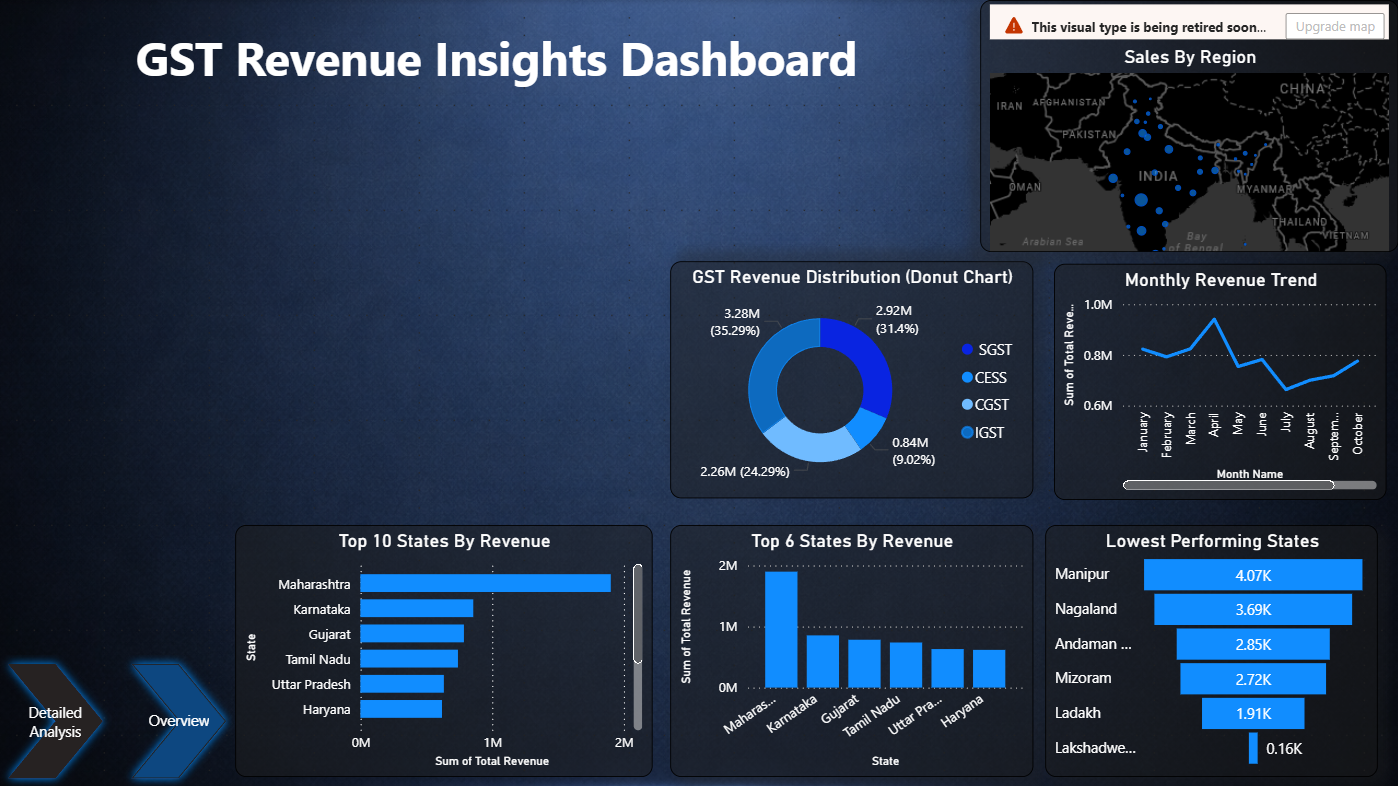

Layout of this report page (visuals, bound fields, positions):
{"tool":"powerbi","page":{"name":"Duplicate of Page 1","canvas":[1280,720],"ordinal":1},"visuals":[{"type":"cardVisual","title":"Total Sales","fields":{"Data":["tarungupta0927_17753816837849605.Total Sales"]},"box":[215.7,113.8,221.6,98.4],"z":0},{"type":"cardVisual","title":"Total Transactions","fields":{"Data":["tarungupta0927_17753816837849605.Total Transactions"]},"box":[454.9,114.3,202.3,96],"z":1000},{"type":"cardVisual","title":"Avg Revenue","fields":{"Data":["tarungupta0927_17753816837849605.Avg Revenue"]},"box":[672,114.3,213.7,96],"z":2000},{"type":"slicer","fields":{"Values":["tarungupta0927_17753816837849605.Year"]},"box":[18.3,115.4,173.7,364.6],"z":3000},{"type":"pieChart","title":"Sales by State","fields":{"Category":["tarungupta0927_17753816837849605.State"],"Y":["Sum(tarungupta0927_17753816837849605.Total Revenue)"]},"box":[215.7,240.6,381.5,215.7],"z":4000},{"type":"donutChart","title":"GST Revenue Distribution (Donut Chart)","fields":{"Y":["Sum(tarungupta0927_17753816837849605.SGST Revenue)","Sum(tarungupta0927_17753816837849605.Cess Revenue)","Sum(tarungupta0927_17753816837849605.CGST Revenue)","Sum(tarungupta0927_17753816837849605.IGST Revenue)"]},"box":[613.4,239.4,331.6,216.9],"z":5000},{"type":"map","title":"Sales By Region","fields":{"Category":["tarungupta0927_17753816837849605.State"],"Size":["Sum(tarungupta0927_17753816837849605.Total Revenue)"]},"box":[897.7,0,382.8,230.6],"z":6000},{"type":"clusteredBarChart","title":"Top 10 States By Revenue","fields":{"Category":["tarungupta0927_17753816837849605.State"],"Y":["Sum(tarungupta0927_17753816837849605.Total Revenue)"]},"box":[215.7,480,381.5,230.6],"z":7000},{"type":"clusteredColumnChart","title":"Top 6 States By Revenue","fields":{"Category":["tarungupta0927_17753816837849605.State"],"Y":["Sum(tarungupta0927_17753816837849605.Total Revenue)"]},"box":[613.4,480,331.6,230.6],"z":8000},{"type":"funnel","title":"Lowest Performing States","fields":{"Category":["tarungupta0927_17753816837849605.State"],"Y":["Sum(tarungupta0927_17753816837849605.Total Revenue)"]},"box":[956.3,480,304.2,230.6],"z":9000},{"type":"textbox","box":[51.5,18.1,807,66.8],"z":10000},{"type":"image","box":[224,146.3,38.9,53.7],"z":11000},{"type":"image","box":[681.1,146.3,44.6,51.4],"z":12000},{"type":"image","box":[454.9,154.3,57.1,45.7],"z":13000},{"type":"image","box":[788.6,26.3,86.9,50.3],"z":14000},{"type":"lineChart","title":"Monthly Revenue Trend","fields":{"Category":["tarungupta0927_17753816837849605.Month Name"],"Y":["Sum(tarungupta0927_17753816837849605.Total Revenue)"]},"box":[965,240.6,304.2,215.7],"z":14001},{"type":"bookmarkNavigator","box":[0,598.9,556.6,121.1],"z":14002},{"type":"actionButton","box":[18.3,489.1,100.6,40],"z":14003}]}

Visuals, with their boxes in screenshot pixels (x1, y1, x2, y2), scaled from the page's 1280x720 canvas onto the 1398x786 screenshot:
"Total Sales" cardVisual: (236,124,478,232)
"Total Transactions" cardVisual: (497,125,718,230)
"Avg Revenue" cardVisual: (734,125,967,230)
slicer - tarungupta0927_17753816837849605.Year: (20,126,210,524)
"Sales by State" pieChart: (236,263,652,498)
"GST Revenue Distribution (Donut Chart)" donutChart: (670,261,1032,498)
"Sales By Region" map: (980,0,1397,252)
"Top 10 States By Revenue" clusteredBarChart: (236,524,652,776)
"Top 6 States By Revenue" clusteredColumnChart: (670,524,1032,776)
"Lowest Performing States" funnel: (1044,524,1377,776)
textbox: (56,20,938,93)
image: (245,160,287,218)
image: (744,160,793,216)
image: (497,168,559,218)
image: (861,29,956,84)
"Monthly Revenue Trend" lineChart: (1054,263,1386,498)
bookmarkNavigator: (0,654,608,785)
actionButton: (20,534,130,578)
